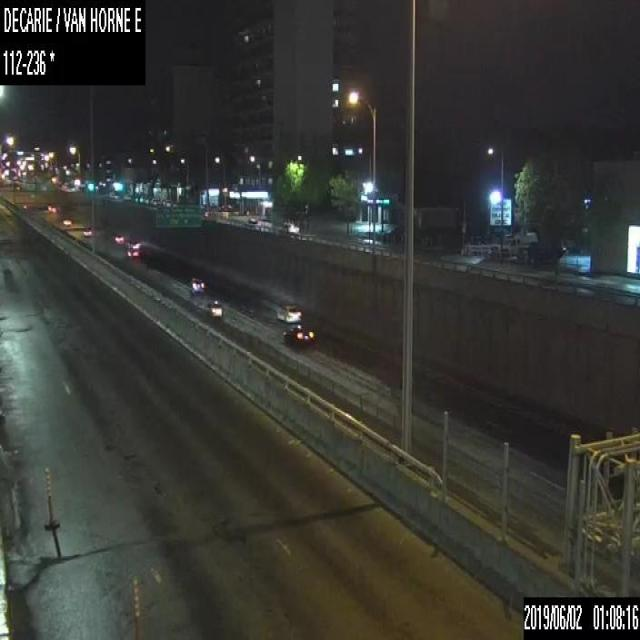construction: (44, 467, 59, 529), (131, 577, 140, 639)
vehicle: (500, 232, 538, 252), (282, 324, 314, 344), (274, 303, 302, 320), (205, 298, 222, 318), (188, 277, 205, 295), (278, 221, 298, 235), (125, 246, 141, 259), (83, 225, 92, 236), (112, 234, 122, 242)
